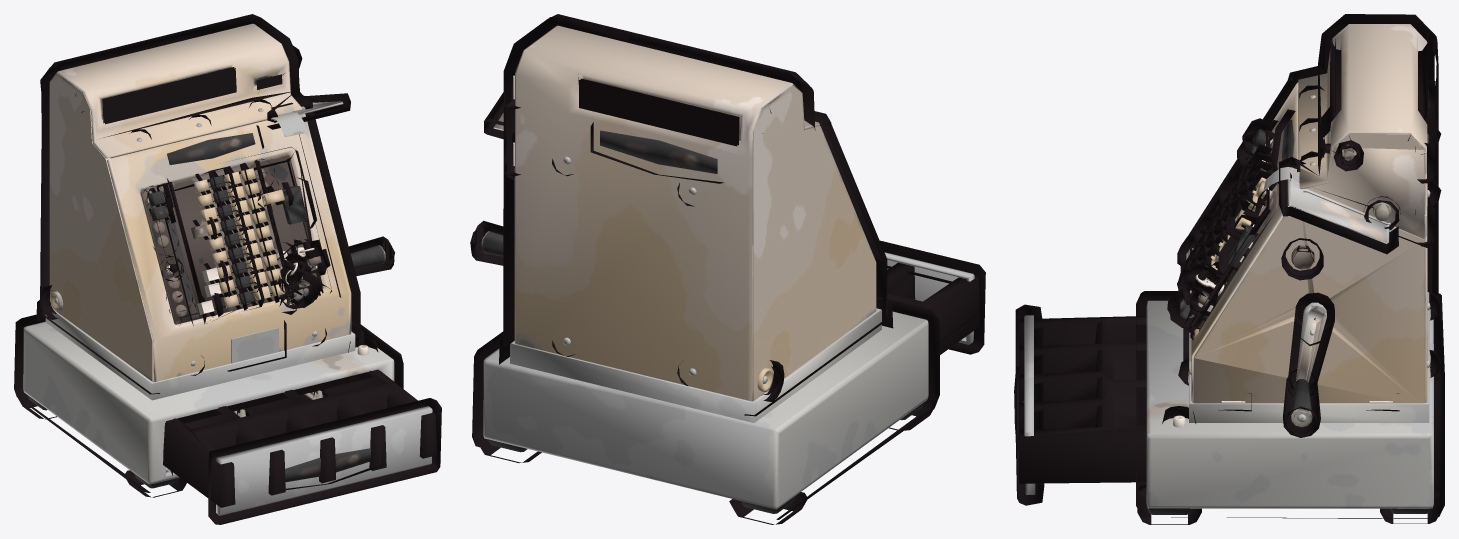
The model's file is SM_Int_Register.fbx.
3 renders of one model, left to right at view 1: azimuth 30°, elevation 25°; view 2: azimuth 150°, elevation 25°; view 3: azimuth 270°, elevation 25°, orthographic. The views are drawn at different scales.
Visible parts, largest first — view 1: SM_Int_Register; view 2: SM_Int_Register; view 3: SM_Int_Register.
Boxes of the visible parts, left/top/right/bottom form: SM_Int_Register: left=14, top=14, right=441, bottom=524; SM_Int_Register: left=470, top=14, right=985, bottom=524; SM_Int_Register: left=1014, top=14, right=1444, bottom=524.
Size of what is drawn, in the model's own units: 0.3057 by 0.3151 by 0.3155.
